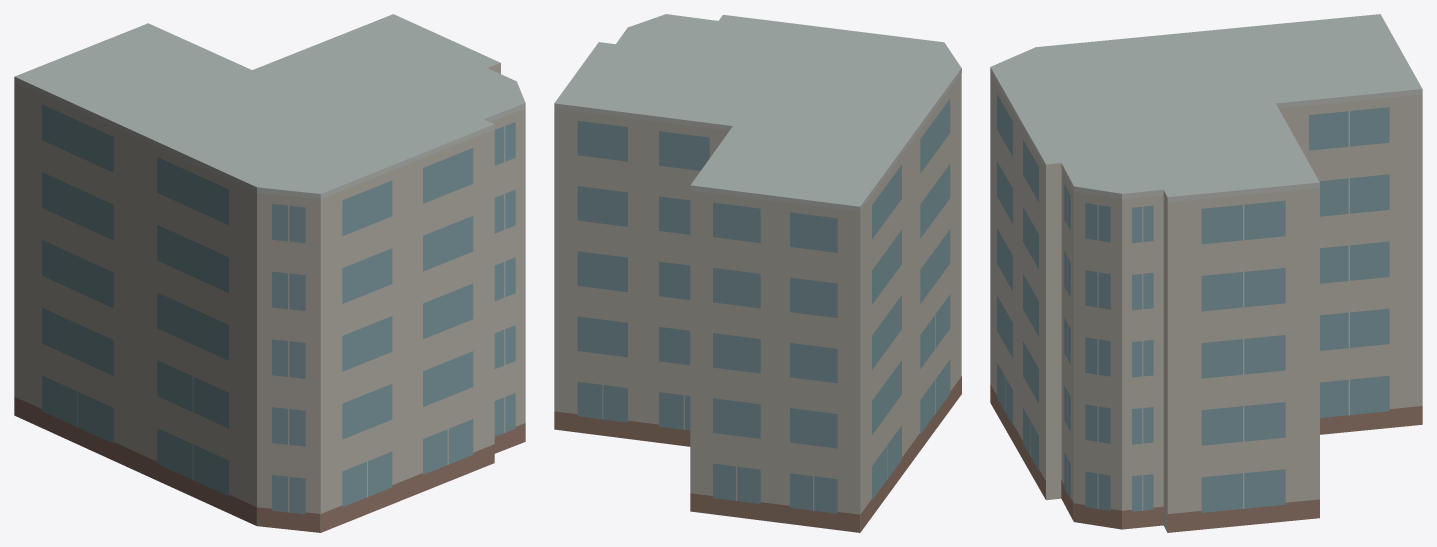
Rendered from survey-upis-32616068.glb.
3 views of the same model, side by side, from view 1: azimuth 30°, elevation 25°; view 2: azimuth 150°, elevation 25°; view 3: azimuth 270°, elevation 25° (orthographic). The views are drawn at different scales.
Visible parts, largest first — view 1: survey-upis-32616068.tmp; view 2: survey-upis-32616068.tmp; view 3: survey-upis-32616068.tmp.
Boxes of the visible parts, left/top/right/bottom form: survey-upis-32616068.tmp: left=14, top=14, right=525, bottom=532; survey-upis-32616068.tmp: left=554, top=14, right=961, bottom=532; survey-upis-32616068.tmp: left=990, top=14, right=1422, bottom=532.
Size of the model in its own units: 17.92 by 15.3 by 17.87.
